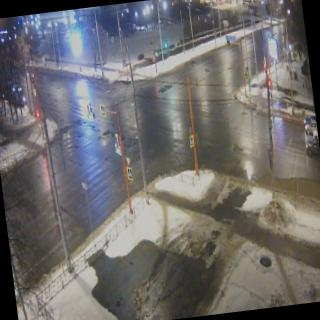large-vehicle: (0, 76, 28, 109)
small-vehicle: (304, 134, 320, 157), (302, 118, 318, 134), (302, 113, 316, 127)
